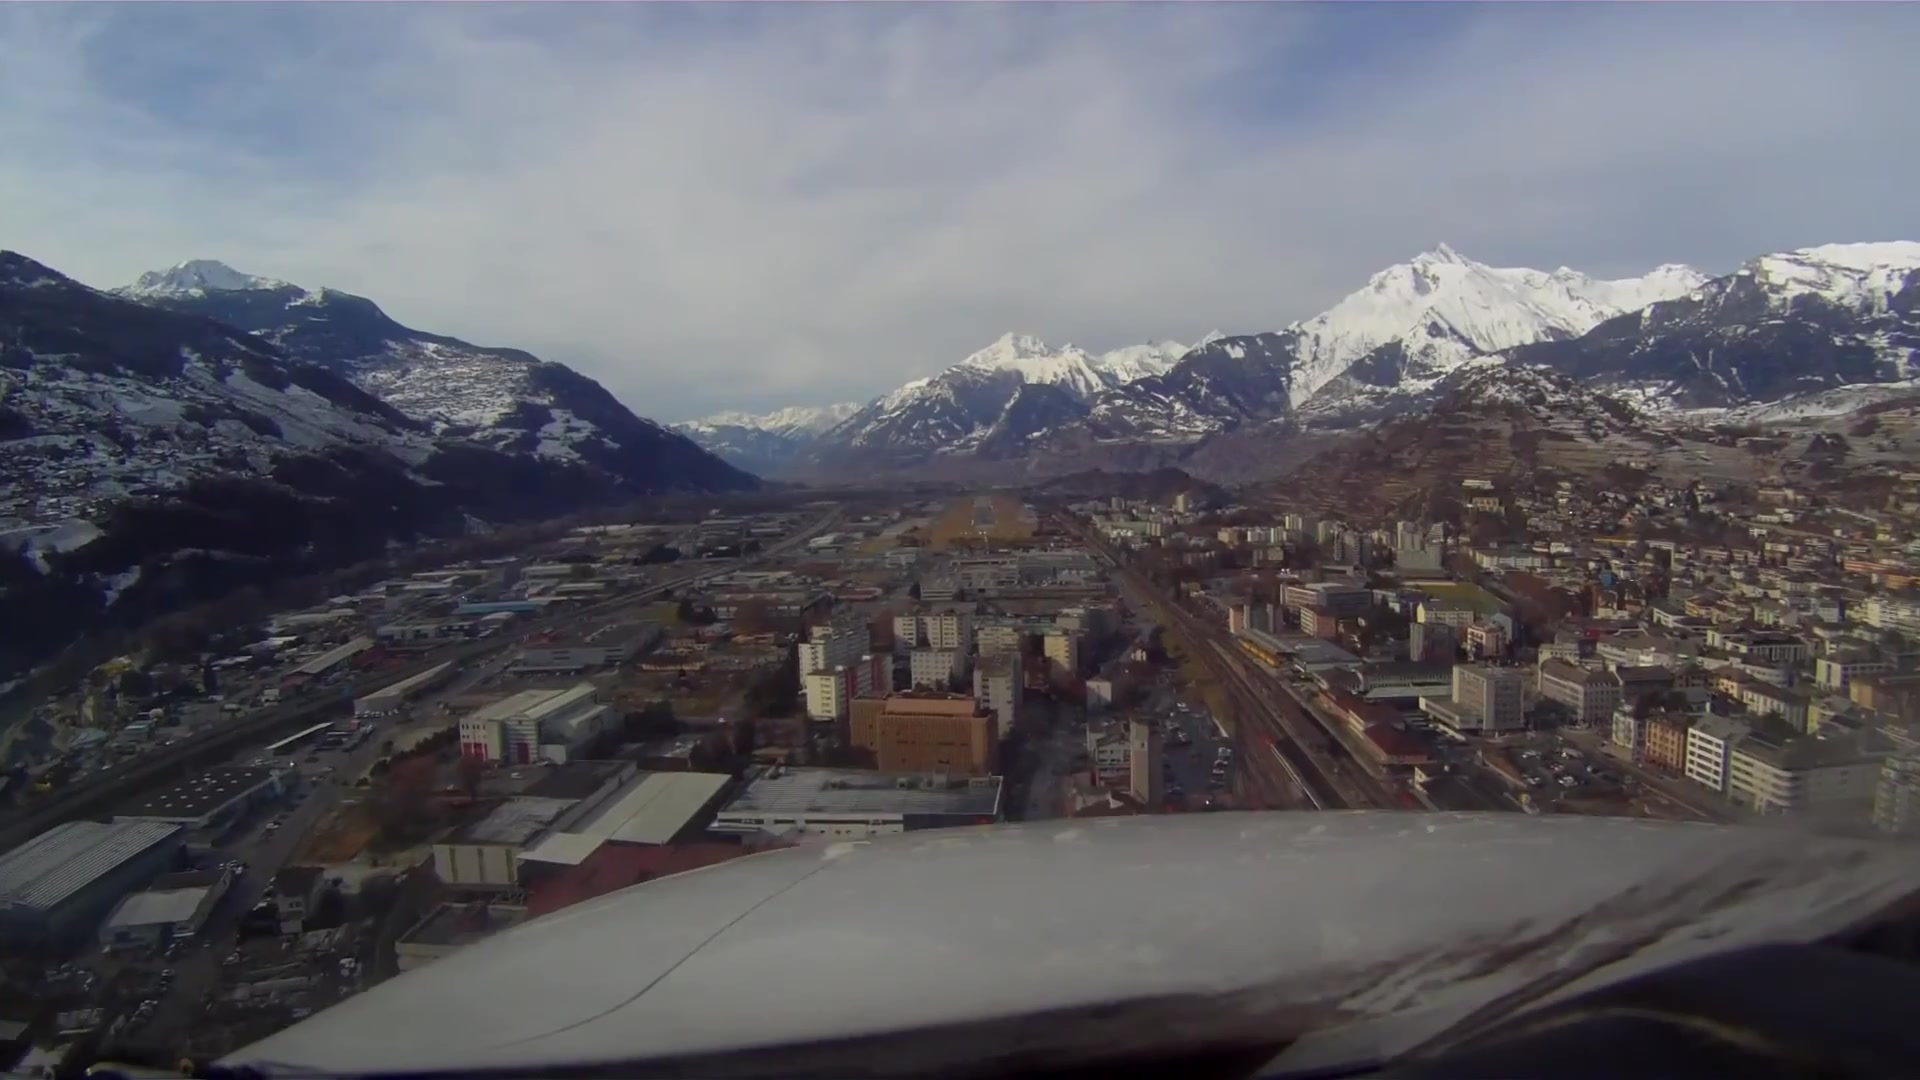runway: (972, 496, 1000, 529)
